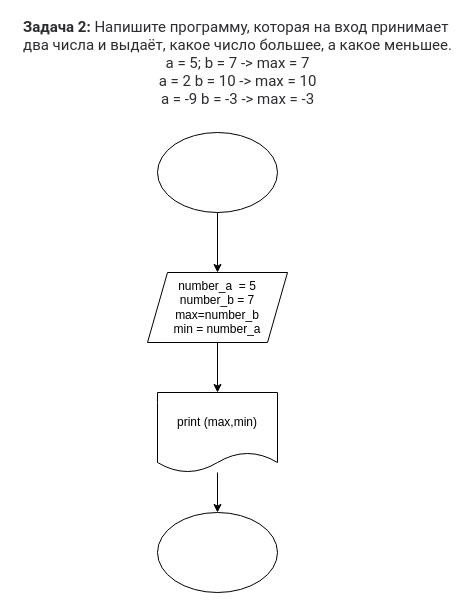
Image size: 474x610. Some labels were removed from this diagram. Here are the shapes that lost their labels. From the top down, the centre of each, then its label:
At point 217,172: "start".
At point 217,552: "End".
